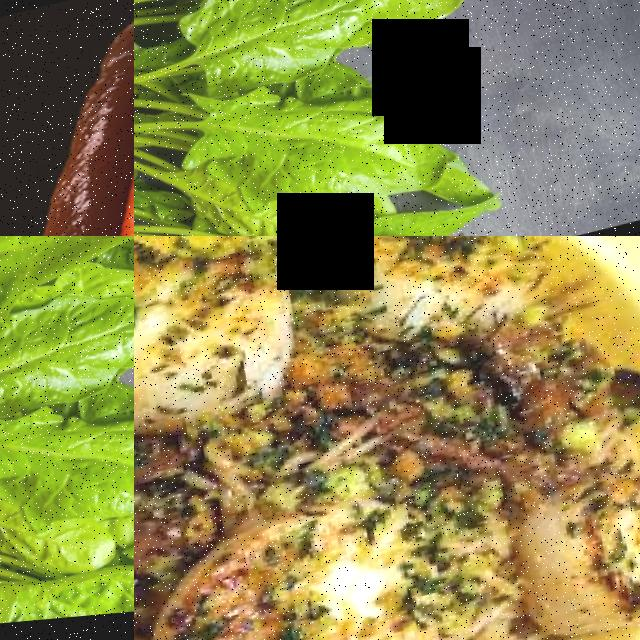salmon: (78, 0, 134, 236)
sea scallops: (506, 478, 640, 640)
spinach: (184, 79, 337, 220), (181, 0, 344, 108), (0, 295, 127, 428), (0, 399, 119, 539), (316, 103, 447, 217), (0, 546, 134, 628), (0, 236, 112, 311), (9, 516, 116, 590), (226, 196, 332, 236), (99, 422, 134, 536)
